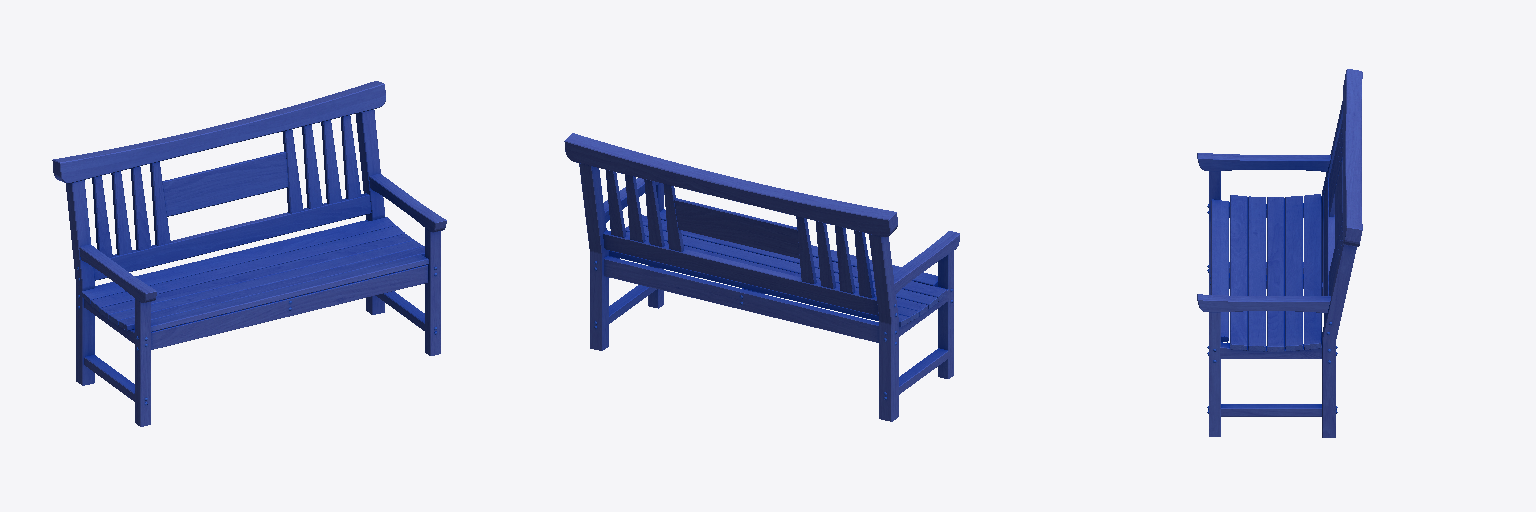
3 renders of one model, left to right at view 1: azimuth 30°, elevation 25°; view 2: azimuth 150°, elevation 25°; view 3: azimuth 270°, elevation 25°, orthographic.
Parts seen in each view (by area): view 1: Bench; view 2: Bench; view 3: Bench.
Boxes of the visible parts, box(x1,y1,x2,y2) form: Bench: box(52, 81, 446, 426); Bench: box(564, 133, 959, 421); Bench: box(1197, 69, 1362, 437).
Size of the model in its own units: 261 by 166 by 115.
Materials: 1 (1 with a texture image).